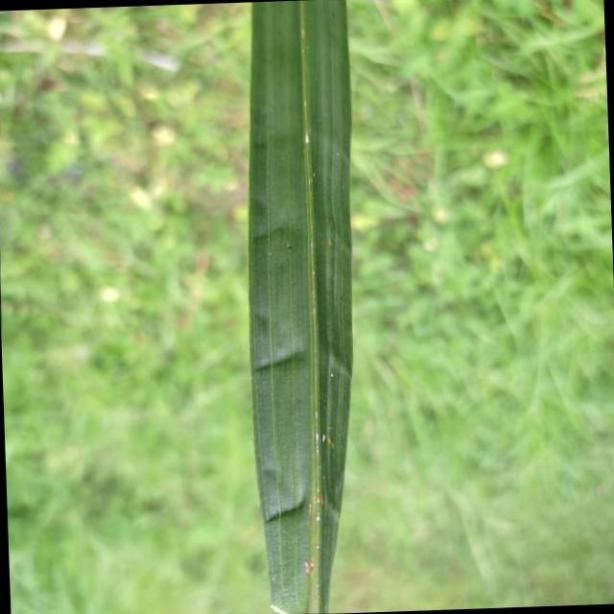Boron: (248, 0, 353, 614)
